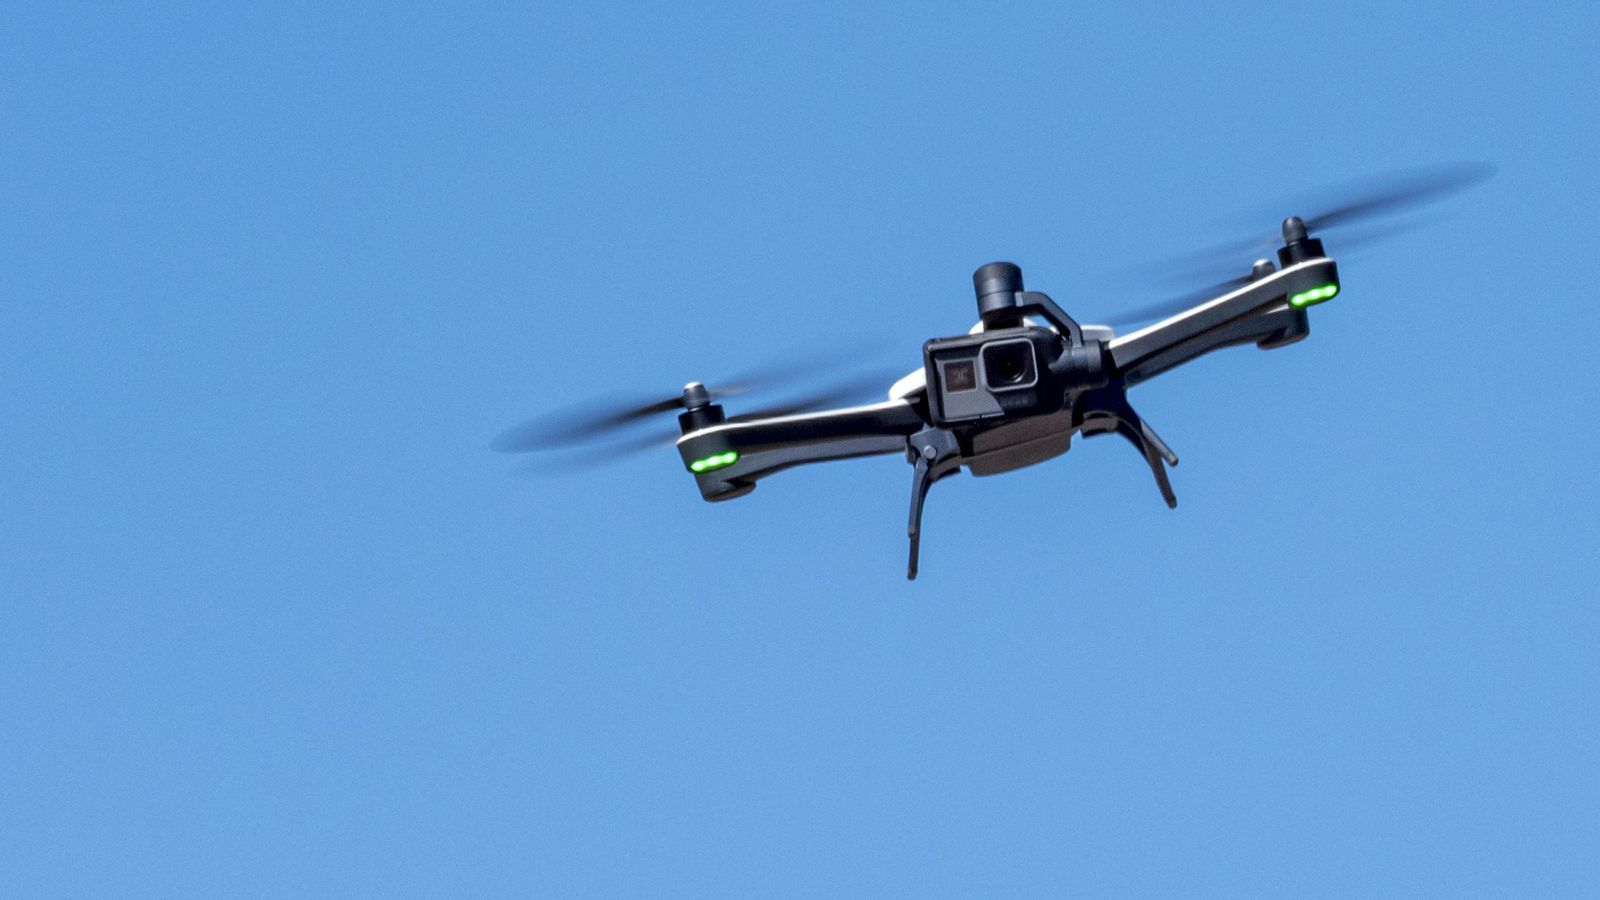drone: (486, 157, 1496, 585)
